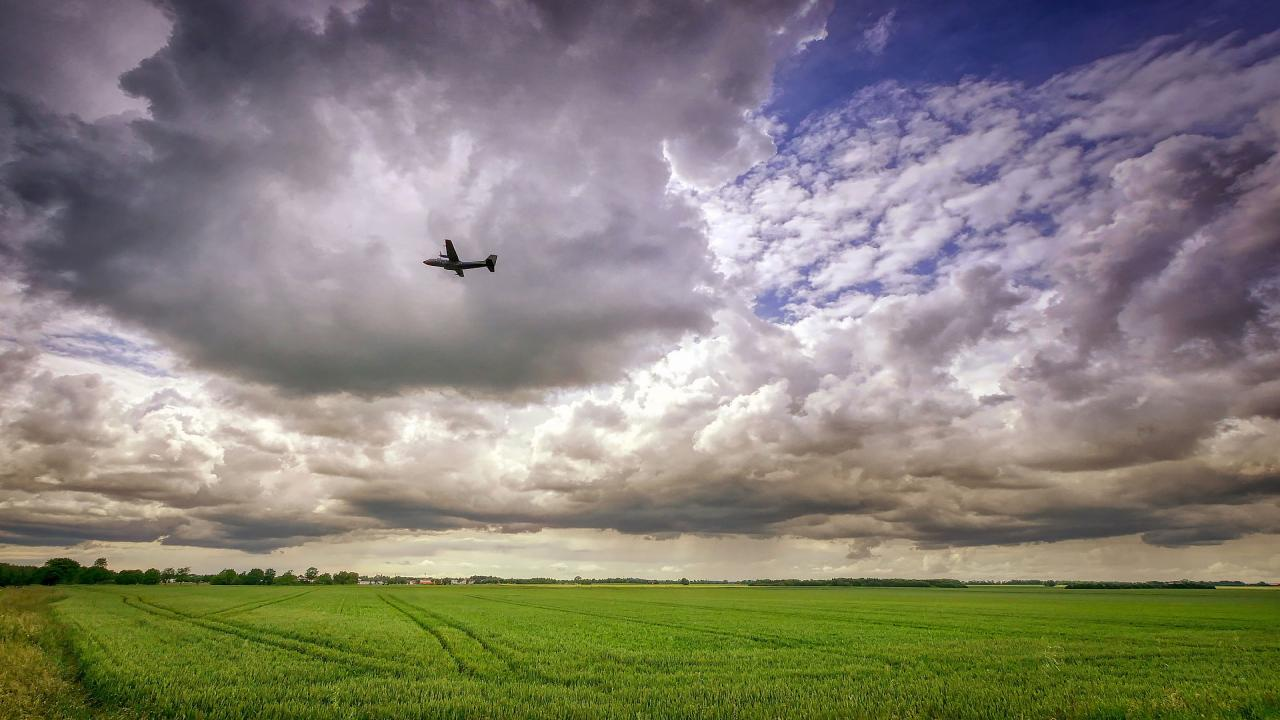Airplane: (416, 233, 509, 284)
